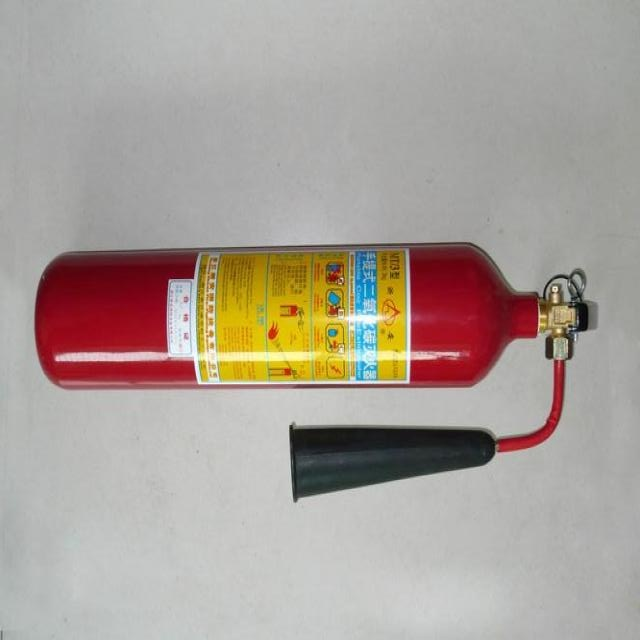fire extinguisher: (22, 239, 623, 512)
